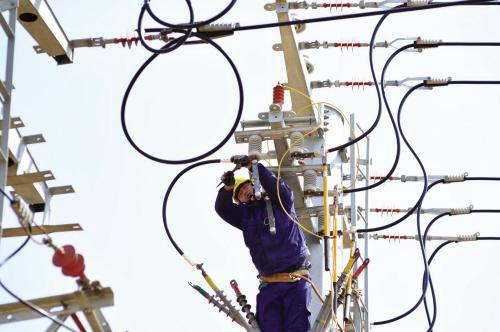helmet: (227, 175, 263, 208)
